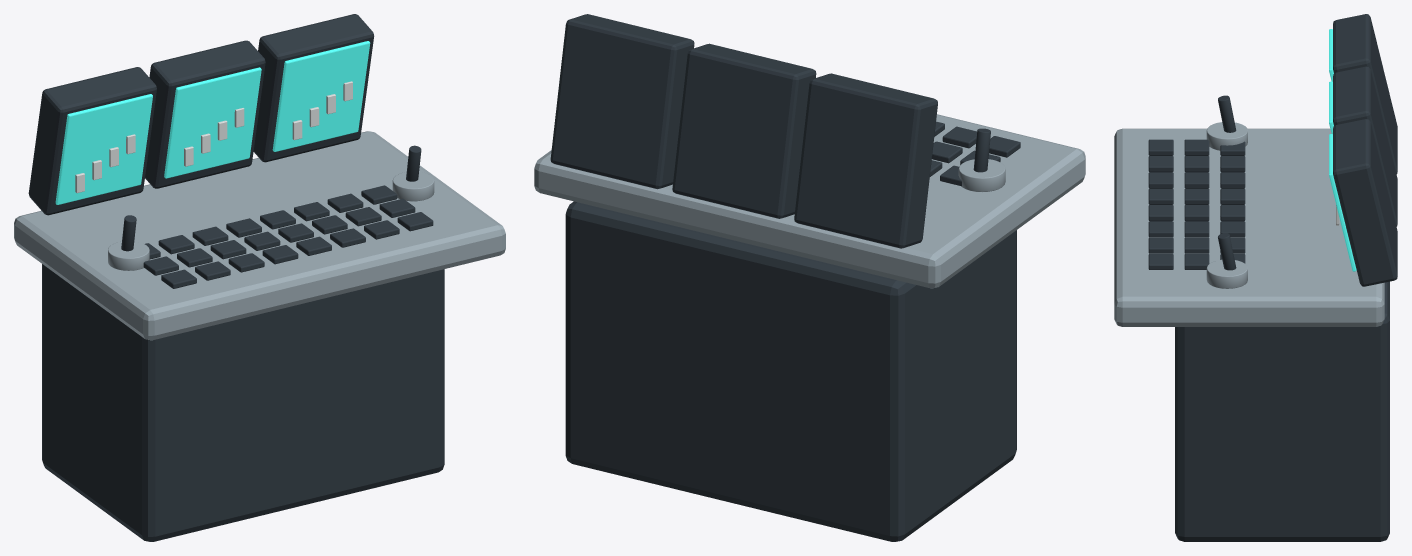
File: cockpit.glb
3 renders of one model, left to right at view 1: azimuth 30°, elevation 25°; view 2: azimuth 150°, elevation 25°; view 3: azimuth 270°, elevation 25°, orthographic. The views are drawn at different scales.
Parts seen in each view (by area): view 1: Console pedestal, Control surface, Display frame, Display.001, Display, Display.002, Display frame.001, Display frame.002, Joystick base.001, Joystick base; view 2: Console pedestal, Control surface, Display frame, Display frame.002, Display frame.001, Joystick base; view 3: Console pedestal, Control surface, Display frame.002, Display frame, Display frame.001, Joystick base.001, Joystick base, Display.002, Joystick.001, Joystick, Key, Key.006 (+19 smaller).
Part boxes in pixels (box(x1,y1,x2,y2)): Console pedestal: box(42, 264, 444, 541); Control surface: box(14, 131, 505, 340); Display frame: box(28, 67, 156, 215); Display.001: box(164, 67, 261, 178); Display: box(55, 94, 152, 204); Display.002: box(272, 41, 370, 151); Display frame.001: box(145, 40, 265, 188); Display frame.002: box(253, 14, 374, 162); Joystick base.001: box(392, 172, 434, 201); Joystick base: box(108, 241, 149, 270); Console pedestal: box(565, 201, 1016, 541); Control surface: box(534, 114, 1085, 288); Display frame: box(794, 73, 937, 248); Display frame.002: box(550, 14, 694, 189); Display frame.001: box(672, 43, 816, 218); Joystick base: box(958, 159, 1005, 191); Console pedestal: box(1175, 281, 1389, 541); Control surface: box(1114, 128, 1384, 326); Display frame.002: box(1333, 119, 1397, 286); Display frame: box(1333, 14, 1397, 174); Display frame.001: box(1333, 66, 1397, 226); Joystick base.001: box(1206, 259, 1247, 288); Joystick base: box(1206, 122, 1247, 150); Display.002: box(1329, 134, 1356, 271); Joystick.001: box(1218, 233, 1236, 270); Joystick: box(1218, 95, 1236, 132); Key: box(1148, 139, 1173, 155); Key.006: box(1148, 172, 1173, 188).
Bounding box in the file's own units: 1.5 × 1.54 × 1.03.
